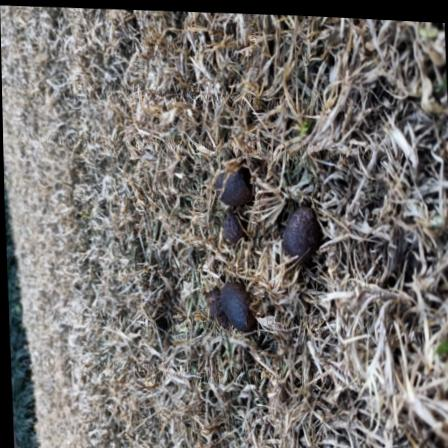dog-poop: (206, 145, 261, 243), (196, 268, 260, 330), (272, 196, 324, 258)
